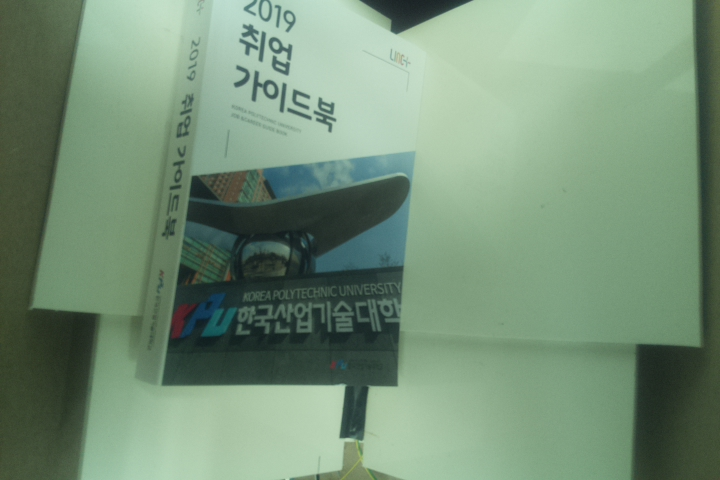book: (133, 1, 429, 390)
